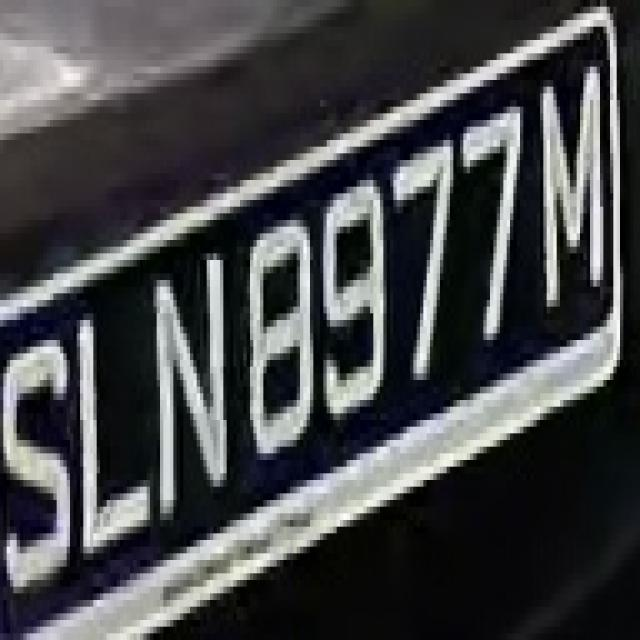7: (380, 134, 463, 394), (453, 113, 527, 380)
8: (243, 200, 320, 467)
9: (313, 166, 387, 426)
L: (67, 274, 150, 574)
M: (530, 47, 610, 320)
N: (137, 247, 233, 520)
S: (10, 307, 70, 620)
